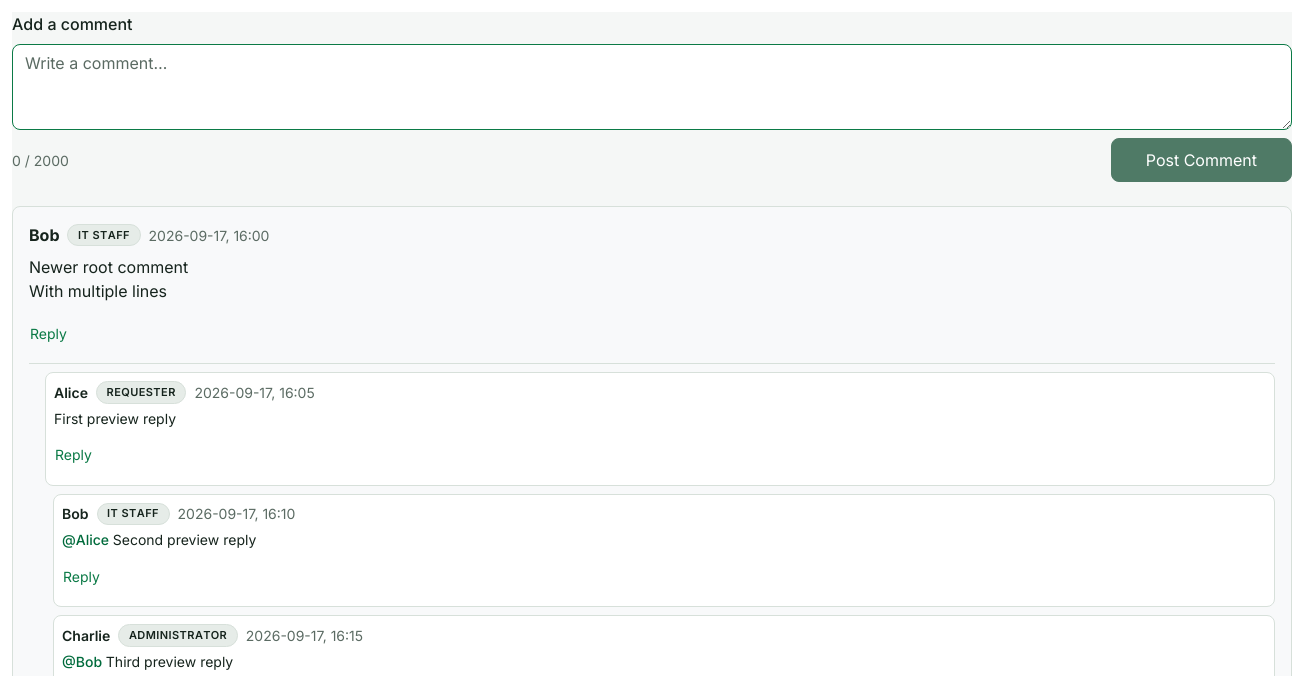
Test case: PublicComments component @issue-6 › UI-23 Root composer and lazy root list › retains draft on submission error and displays error alert
This screenshot has width=1304, height=676.
expect the text "Newer root comment With multiple lines" is shown: met, box [29, 257, 188, 301]
Type "Important comment to retain" into the text box labelled "Add a comment". click: (652, 87)
box: [12, 44, 1292, 130]
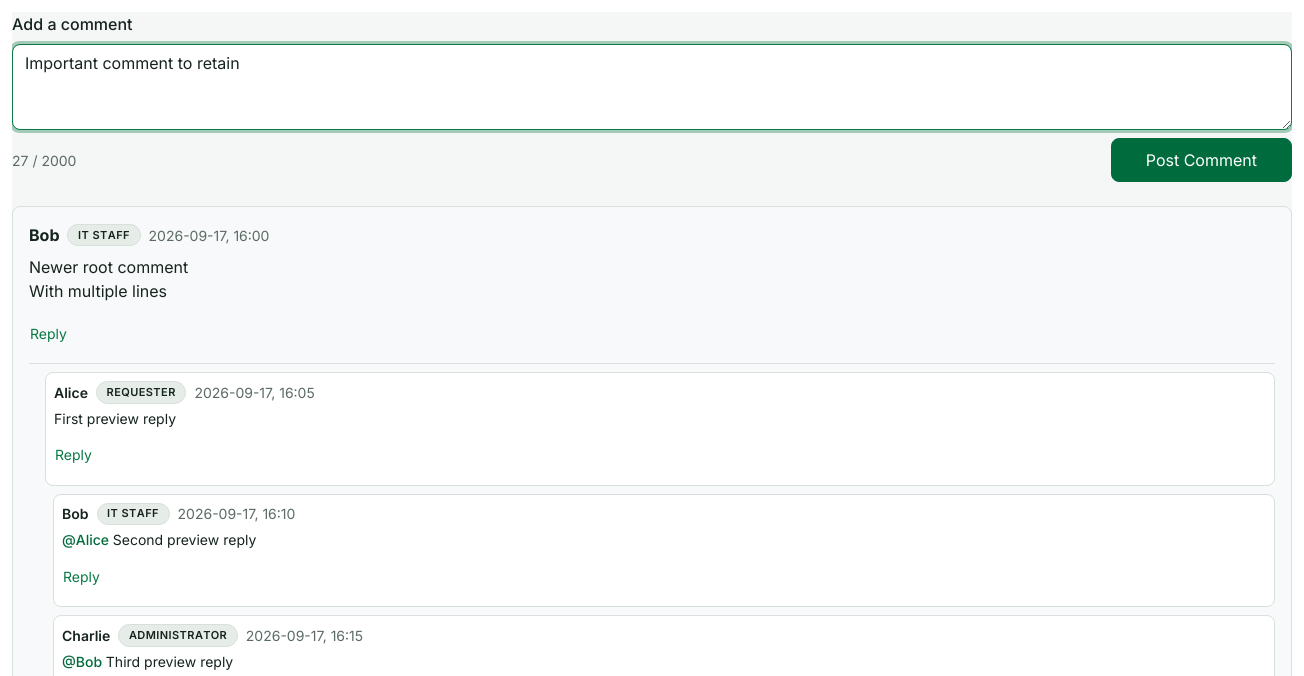
Click the button "Post Comment". click: (1201, 160)
box: [1111, 138, 1292, 182]
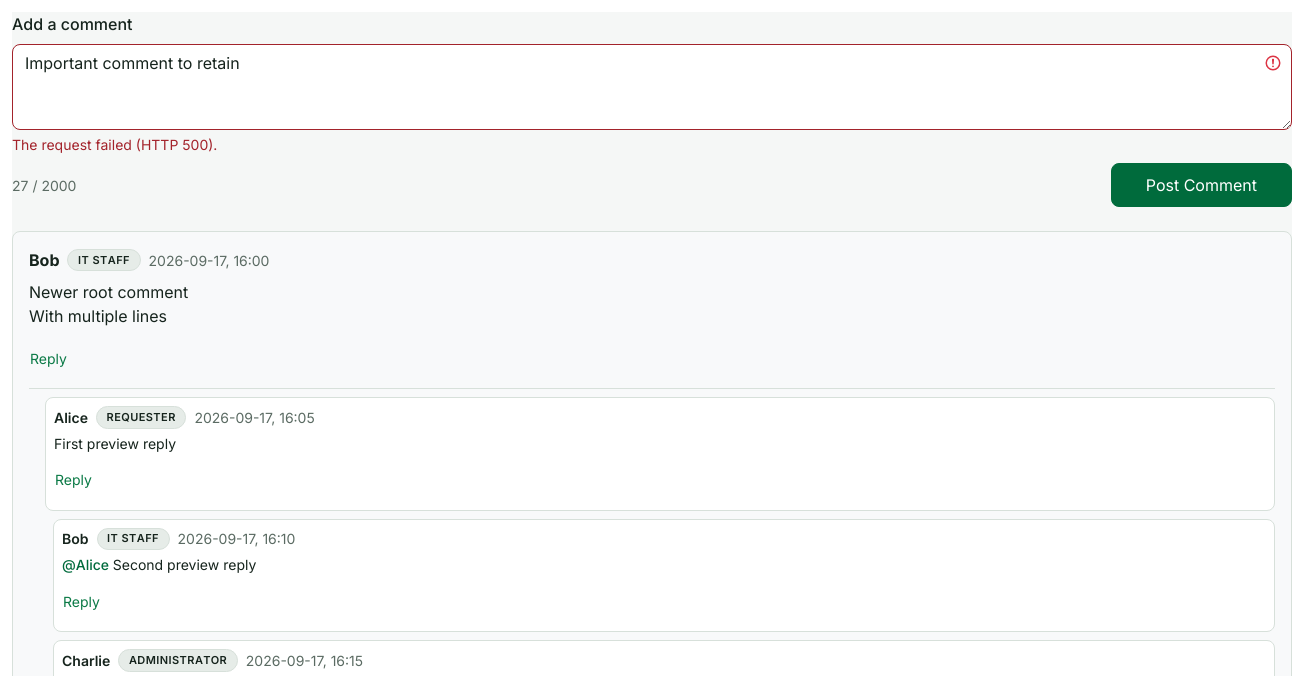
expect the message "The request failed (HTTP 500)." is shown: met, box [12, 136, 217, 153]
